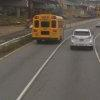Bus: (28, 11, 64, 45)
